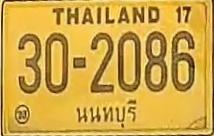0: (117, 31, 141, 92), (44, 32, 68, 93)
2: (90, 32, 114, 93)
3: (17, 32, 41, 94)
6: (171, 30, 195, 91)
8: (144, 30, 167, 92)
NBI: (69, 94, 139, 129)
